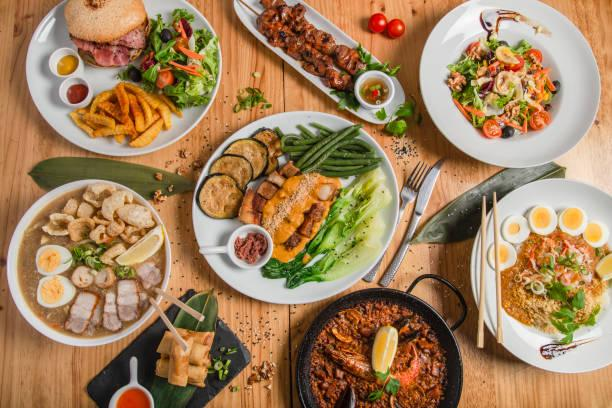Braised Crucian Carp: (191, 109, 391, 303), (418, 0, 598, 167), (24, 0, 215, 156), (3, 179, 166, 347), (472, 178, 612, 370), (294, 287, 466, 408), (233, 0, 400, 124), (92, 300, 248, 408)
